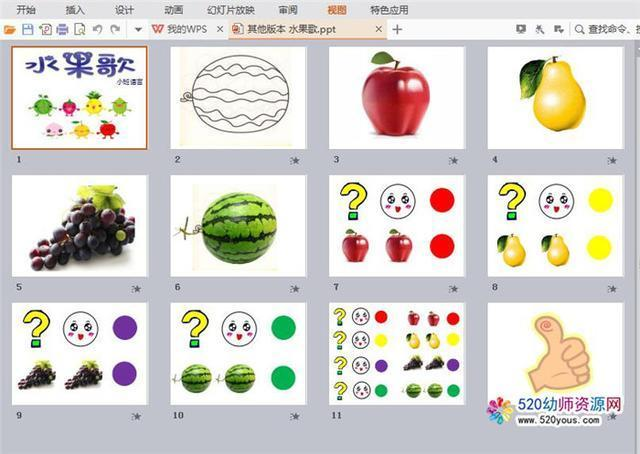apple: (360, 59, 430, 135)
